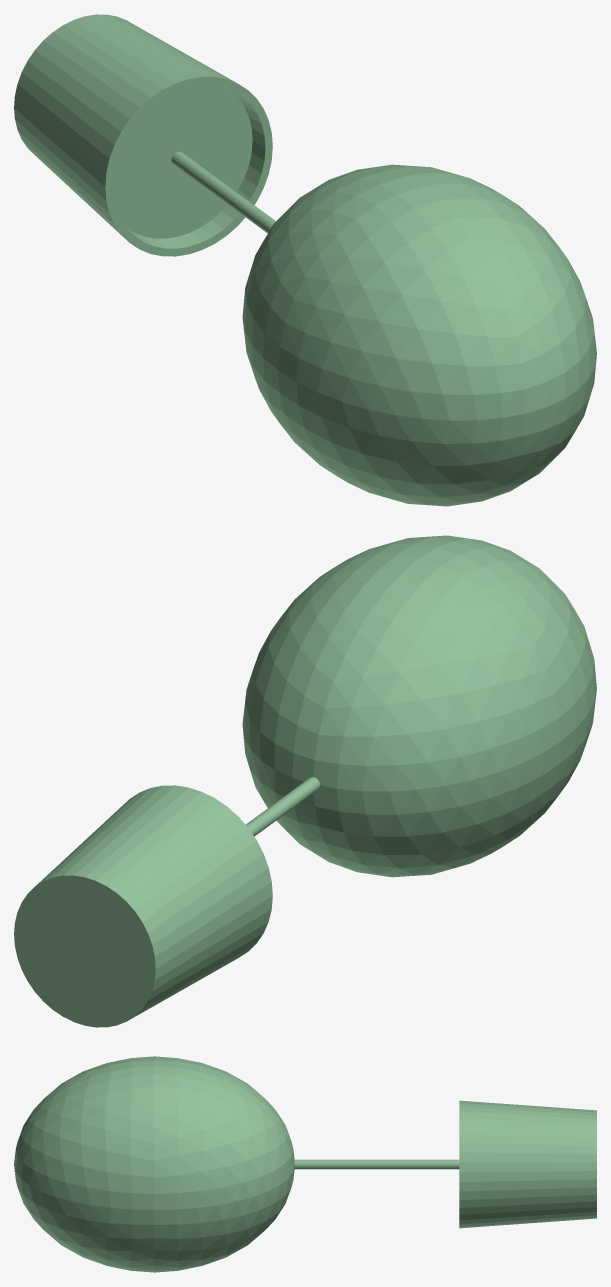
Rendered from plant.glb.
3 views of the same model, one above another, from view 1: azimuth 30°, elevation 25°; view 2: azimuth 150°, elevation 25°; view 3: azimuth 270°, elevation 25° (orthographic). The views are drawn at different scales.
Parts seen in each view (by area): view 1: plant; view 2: plant; view 3: plant.
Part boxes in pixels (<box>): plant: <box>14,14,596,506</box>; plant: <box>14,535,596,1027</box>; plant: <box>14,1056,596,1272</box>.
Size of the model in its own units: 440 by 440 by 1186.
